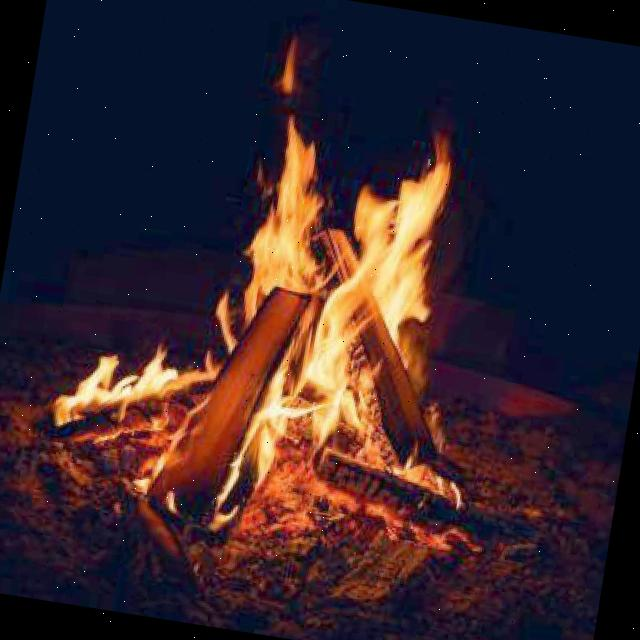fire: (41, 36, 480, 546)
